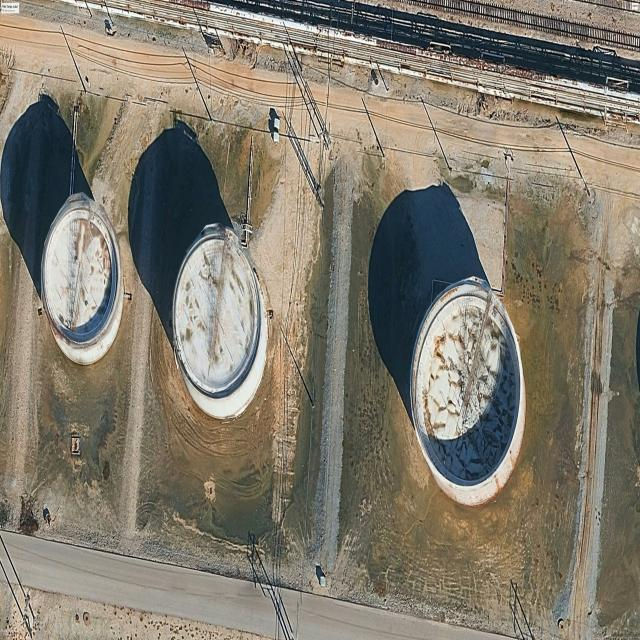Oil Rafinery: (410, 277, 526, 506), (172, 223, 267, 419), (41, 193, 124, 365)
